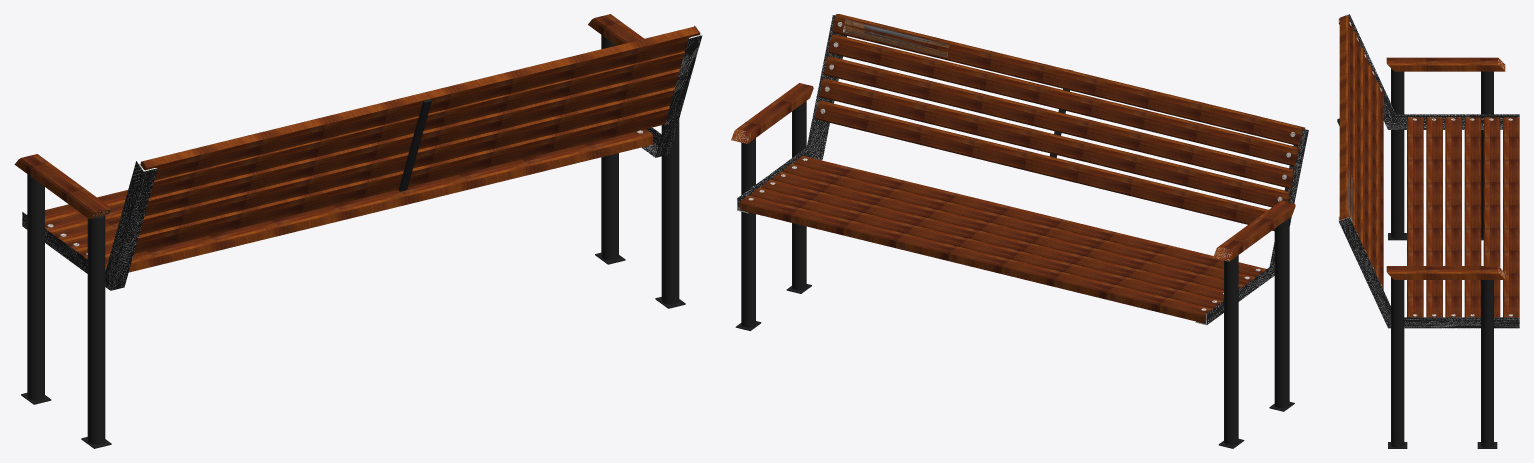
3 views of the same model, side by side, from view 1: azimuth 30°, elevation 25°; view 2: azimuth 150°, elevation 25°; view 3: azimuth 270°, elevation 25° (orthographic). The views are drawn at different scales.
Visible parts, largest first — view 1: mesh8_mesh8-geometry, mesh11_mesh11-geometry, mesh3_mesh3-geometry, mesh16_mesh16-geometry, mesh9_mesh9-geometry, mesh10_mesh10-geometry, mesh1_mesh1-geometry; view 2: mesh8_mesh8-geometry, mesh11_mesh11-geometry, mesh3_mesh3-geometry, mesh9_mesh9-geometry, mesh10_mesh10-geometry, mesh16_mesh16-geometry, mesh17_mesh17-geometry; view 3: mesh8_mesh8-geometry, mesh3_mesh3-geometry, mesh9_mesh9-geometry, mesh11_mesh11-geometry, mesh10_mesh10-geometry, mesh16_mesh16-geometry, mesh17_mesh17-geometry.
Part boxes in pixels (<box>): mesh8_mesh8-geometry: <box>27,26,699,272</box>; mesh11_mesh11-geometry: <box>27,174,105,444</box>; mesh3_mesh3-geometry: <box>601,35,679,304</box>; mesh16_mesh16-geometry: <box>22,160,157,290</box>; mesh9_mesh9-geometry: <box>14,14,644,218</box>; mesh10_mesh10-geometry: <box>641,24,702,157</box>; mesh1_mesh1-geometry: <box>398,99,431,191</box>; mesh8_mesh8-geometry: <box>740,14,1305,323</box>; mesh11_mesh11-geometry: <box>1224,218,1289,445</box>; mesh3_mesh3-geometry: <box>741,101,806,327</box>; mesh9_mesh9-geometry: <box>731,83,1295,261</box>; mesh10_mesh10-geometry: <box>737,15,846,213</box>; mesh16_mesh16-geometry: <box>1195,129,1308,325</box>; mesh17_mesh17-geometry: <box>843,19,949,57</box>; mesh8_mesh8-geometry: <box>1339,15,1519,317</box>; mesh3_mesh3-geometry: <box>1391,277,1493,447</box>; mesh9_mesh9-geometry: <box>1386,57,1505,279</box>; mesh11_mesh11-geometry: <box>1391,68,1493,238</box>; mesh10_mesh10-geometry: <box>1338,216,1519,328</box>; mesh16_mesh16-geometry: <box>1338,14,1519,129</box>; mesh17_mesh17-geometry: <box>1348,169,1352,223</box>.
Bounding box in the file's own units: 0.8554 × 0.4181 × 0.3057.
